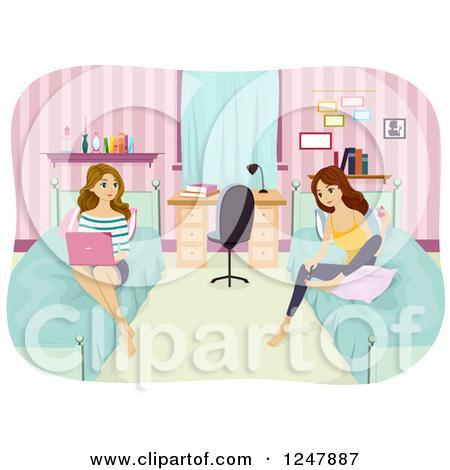chair: (206, 183, 258, 291)
person: (276, 163, 383, 340), (64, 165, 140, 355)
